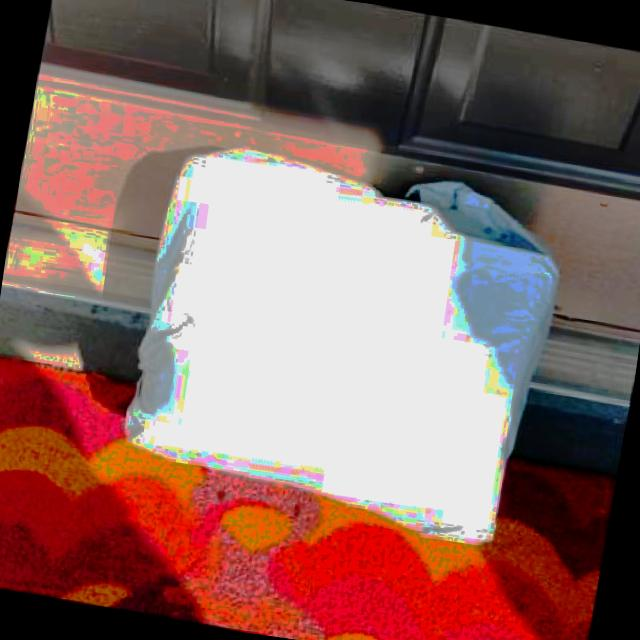Box: (113, 131, 574, 553)
